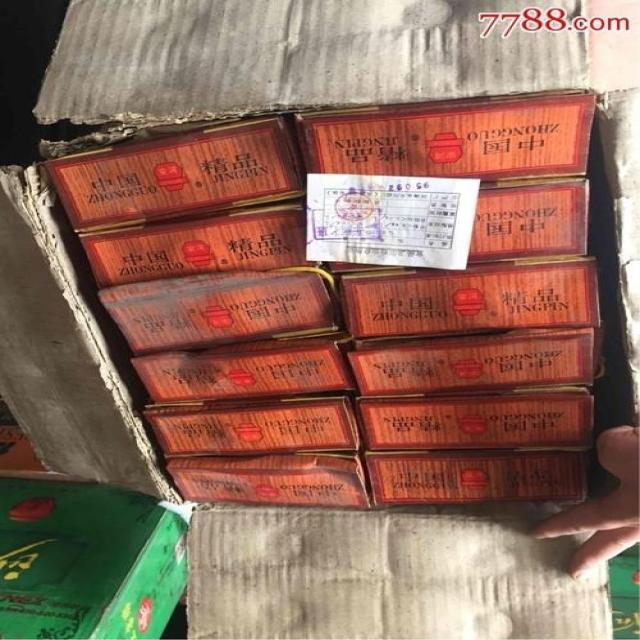box: (44, 117, 303, 233), (296, 94, 598, 181), (97, 266, 340, 356), (342, 258, 603, 341), (78, 203, 323, 289), (346, 327, 604, 396), (131, 338, 357, 402), (145, 391, 361, 457), (356, 393, 590, 451), (165, 452, 374, 510), (365, 452, 582, 507), (468, 178, 590, 264)
